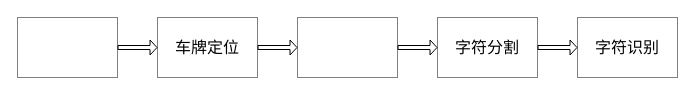
The diagram is 695 pixels wide and 95 high, and some of its shapes have lost their labels. The shapes that lost their labels are listed below. From the top down, each one's centre as x and y in pixels, then its label:
At point (67, 47): "图像预处理".
At point (347, 47): "车牌的 进一步处理".
